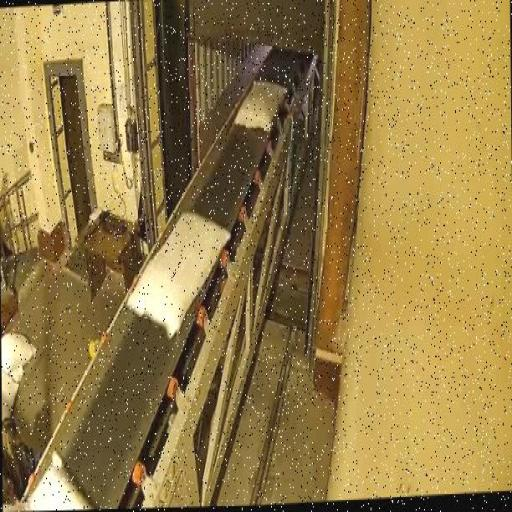c-belt-sack-count: (128, 213, 228, 336), (26, 452, 91, 508), (235, 80, 284, 131)
